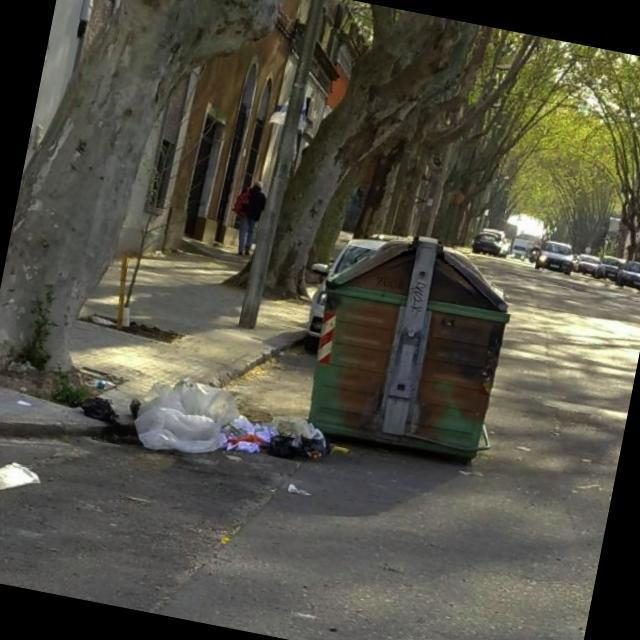garbage: (35, 283, 418, 577), (0, 416, 66, 539)
